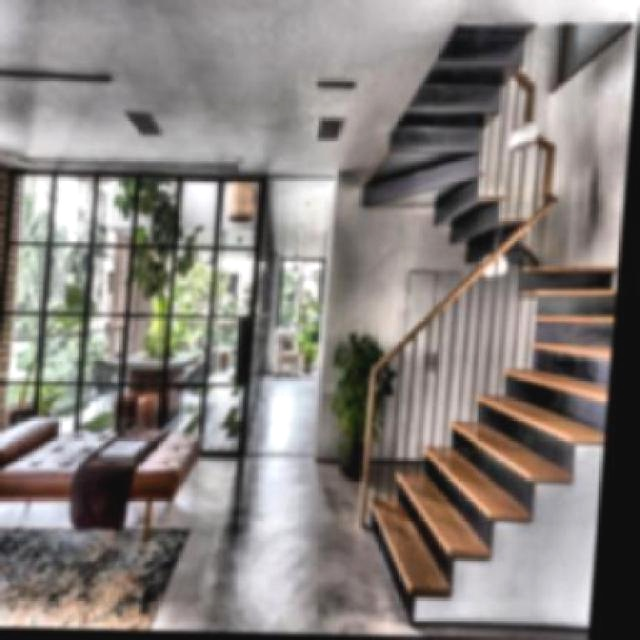stair: (359, 258, 623, 632)
